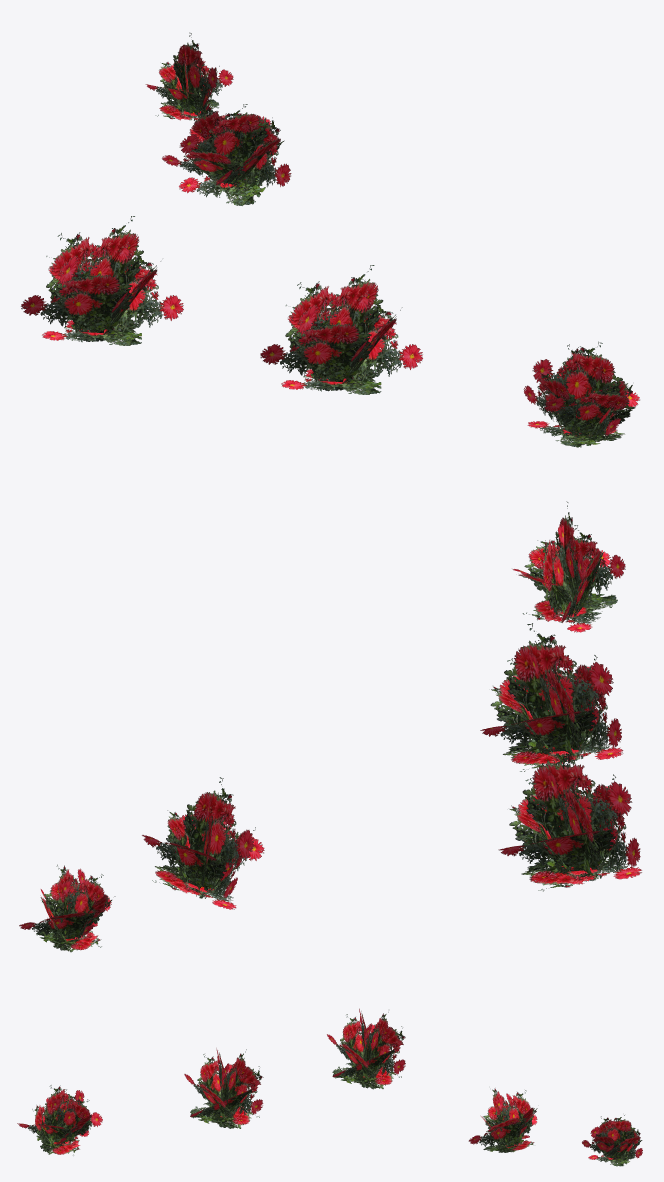
File: Flowers_Playground_COMBO.fbx
The picture shows the model from 3 angles, top to bottom: view 1: azimuth 30°, elevation 25°; view 2: azimuth 150°, elevation 25°; view 3: azimuth 270°, elevation 25°; orthographic projection. The views are drawn at different scales.
Parts seen in each view (by area): view 1: Sun_0017_Low_level_Planting; view 2: Sun_0017_Low_level_Planting; view 3: Sun_0017_Low_level_Planting.
Part boxes in pixels (left/top/right/bottom): Sun_0017_Low_level_Planting: left=21, top=32, right=639, bottom=447; Sun_0017_Low_level_Planting: left=19, top=501, right=641, bottom=952; Sun_0017_Low_level_Planting: left=17, top=1008, right=642, bottom=1166.
Bounding box in the file's own units: 4.35 × 1.7 × 9.41.
